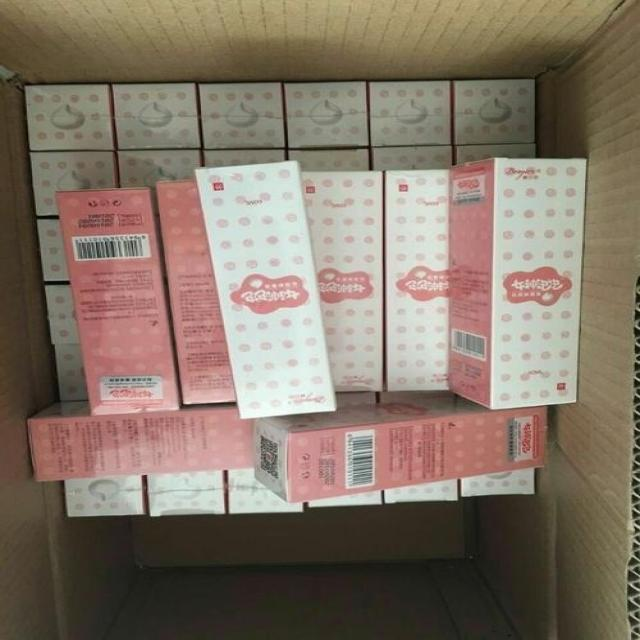box: (189, 160, 338, 421), (451, 156, 586, 412), (252, 391, 548, 502), (54, 189, 184, 414), (151, 178, 237, 405), (23, 402, 253, 482), (302, 171, 384, 393), (379, 169, 452, 392), (110, 83, 202, 150), (24, 85, 114, 152), (28, 150, 118, 215), (197, 82, 285, 148), (285, 82, 371, 147), (366, 80, 452, 145), (449, 80, 535, 145), (145, 471, 227, 516), (225, 469, 306, 514), (116, 148, 202, 189), (65, 476, 148, 516), (460, 468, 535, 497), (370, 145, 453, 170), (383, 478, 458, 505), (54, 345, 90, 401), (288, 147, 370, 171), (37, 219, 69, 280), (46, 284, 78, 345), (454, 144, 535, 165), (307, 490, 384, 510)
